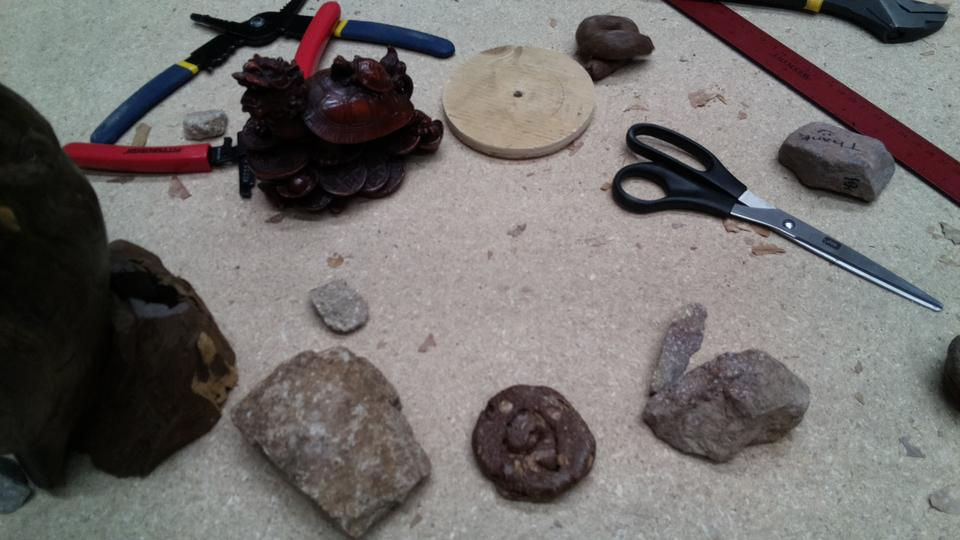poop: (466, 381, 601, 505), (572, 12, 656, 83)
